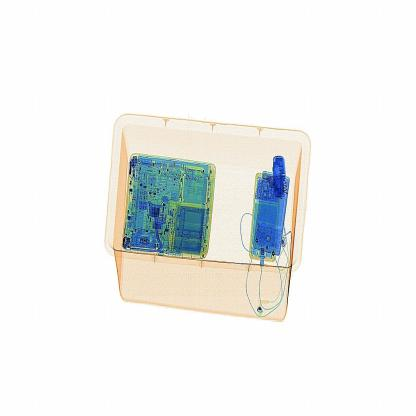scissors: (266, 148, 296, 205)
